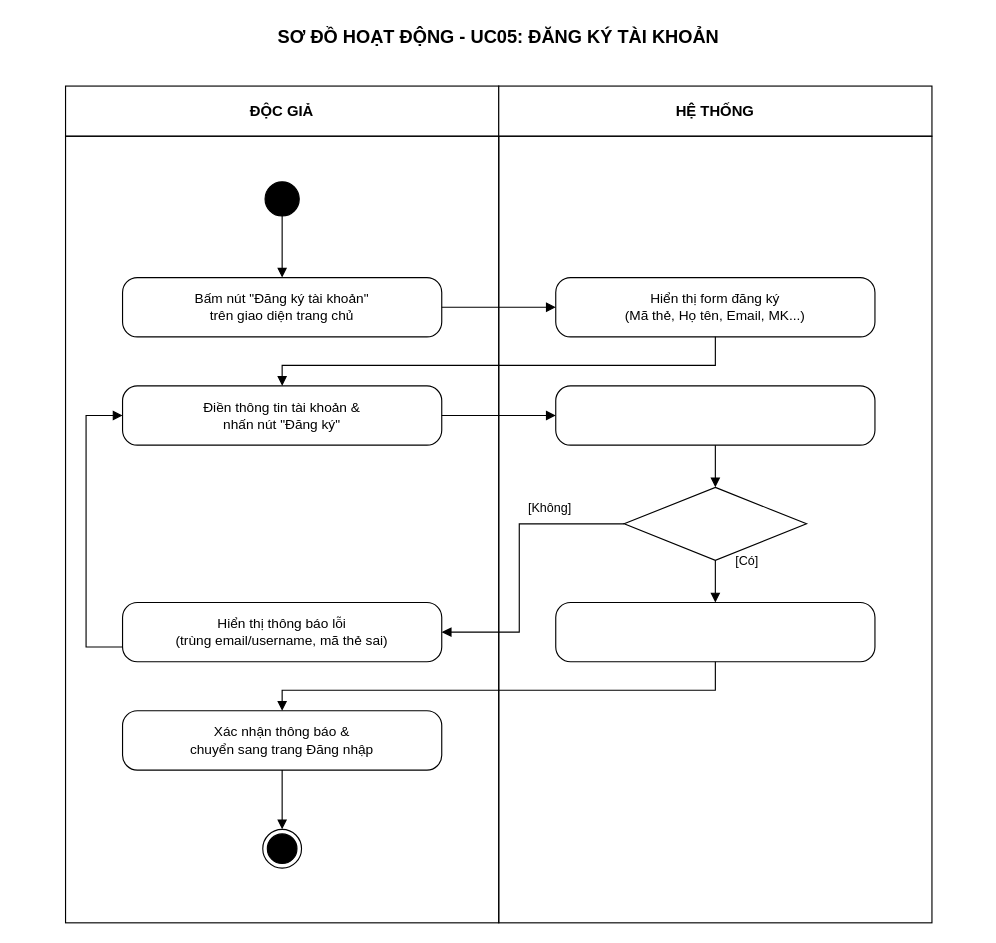
This 996x943 diagram has some shape labels left out. The shapes that lost their labels are listed below. From the top down, each one's centre as x and y in pixels, then its label:
the point at 715,415: Kiểm tra tính hợp lệ dữ liệu (mã thẻ, email, khớp MK, trùng CSDL)
the point at 715,523: Dữ liệu hợp lệ & chưa bị trùng?
the point at 715,631: Lưu tài khoản mới vào CSDL & thông báo kích hoạt thành công
